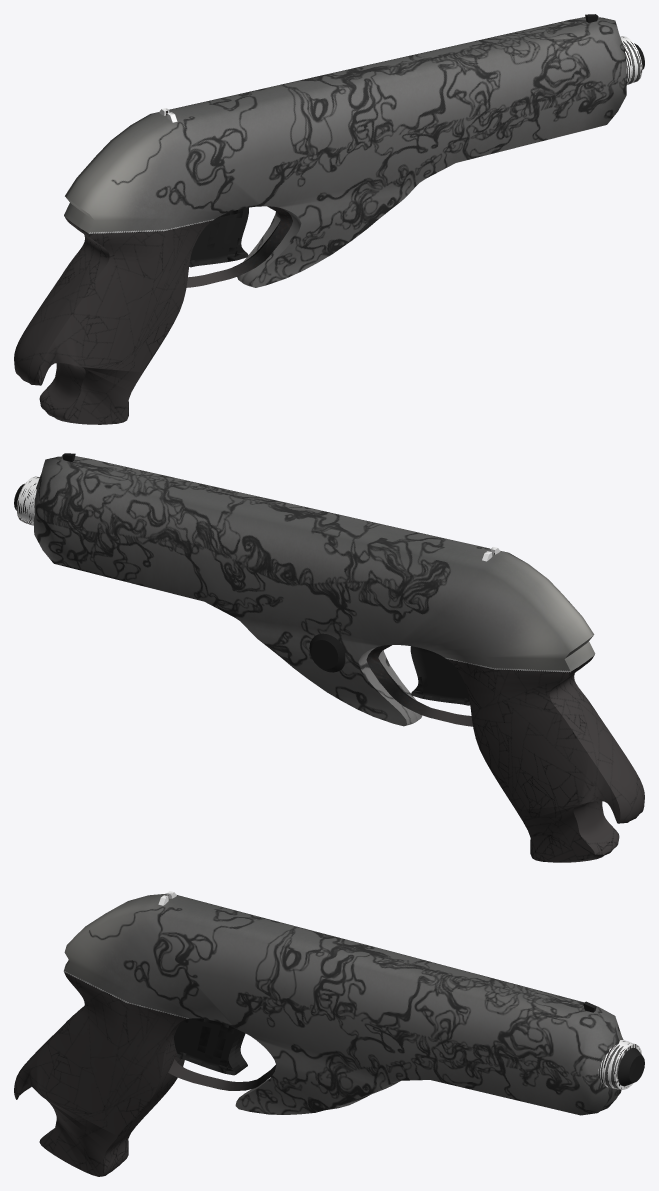
The model's file is Pistol_Game.FBX.
3 renders of one model, top to bottom at view 1: azimuth 30°, elevation 25°; view 2: azimuth 150°, elevation 25°; view 3: azimuth 330°, elevation 25°, orthographic.
Parts seen in each view (by area): view 1: Line001; view 2: Line001; view 3: Line001.
Part boxes in pixels (left/top/right/bottom): Line001: left=14, top=14, right=644, bottom=424; Line001: left=14, top=453, right=644, bottom=862; Line001: left=14, top=891, right=644, bottom=1176.
Size of the model in its own units: 11.55 by 5.23 by 1.22.
1 material, 1 textured.
